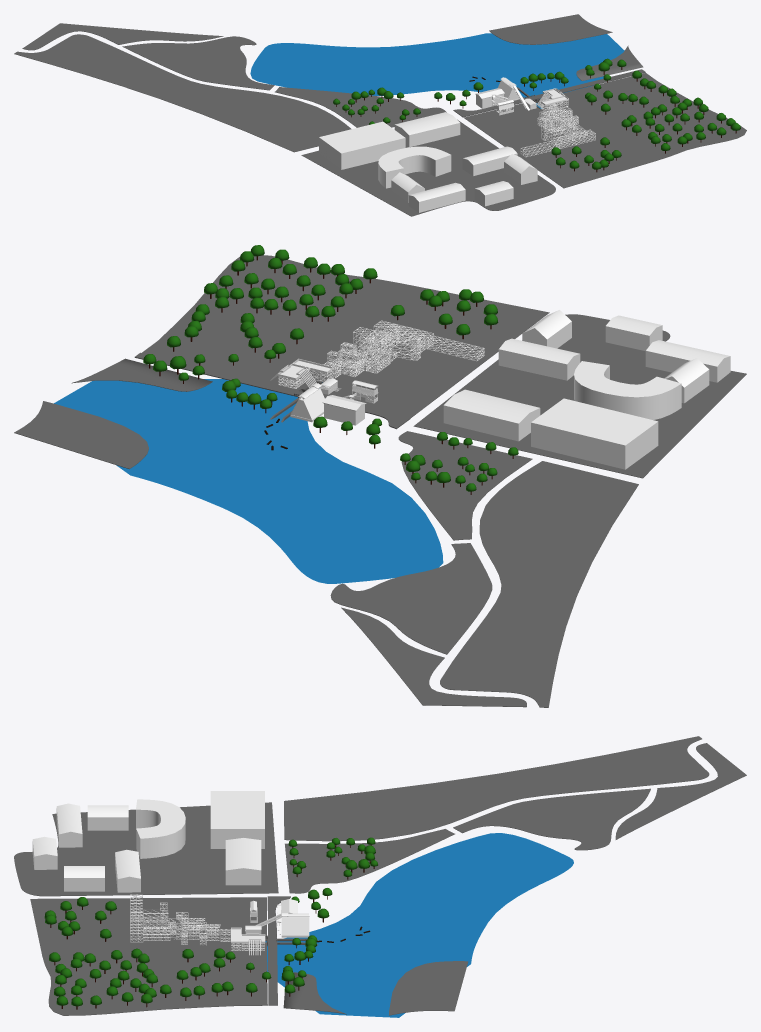
Rendered from 2022-04-13-FINALTEST.fbx.
The picture shows the model from 3 angles, top to bottom: view 1: azimuth 30°, elevation 25°; view 2: azimuth 150°, elevation 25°; view 3: azimuth 270°, elevation 25°; orthographic projection. The views are drawn at different scales.
Parts seen in each view (by area): view 1: Group001, Line086; view 2: Group001, Line086; view 3: Group001, Line086.
Boxes of the visible parts, <box> form: Group001: <box>14,14,746,216</box>; Line086: <box>250,33,624,108</box>; Group001: <box>14,245,746,707</box>; Line086: <box>54,379,443,583</box>; Group001: <box>14,736,746,1015</box>; Line086: <box>265,833,573,1017</box>.
Size of the model in its own units: 45214 by 2221 by 50121.
